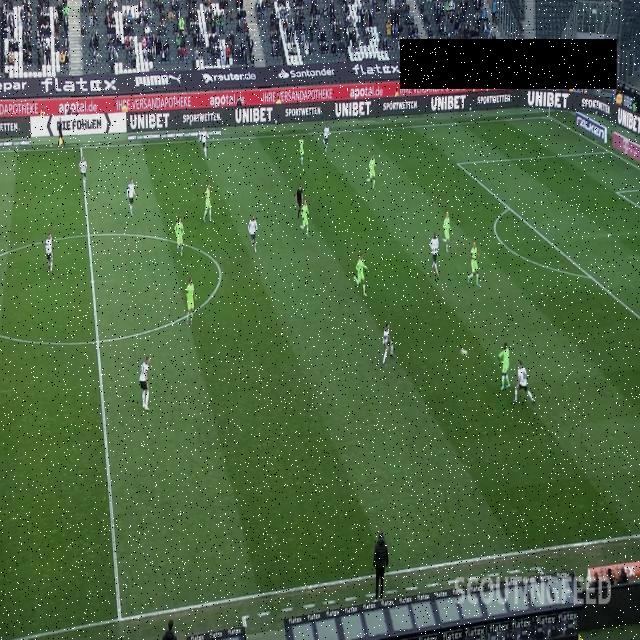Ball: (460, 348, 468, 356)
Corner: (544, 92, 556, 121)
Referee: (296, 184, 304, 218), (57, 119, 66, 149)
TEAM 1: (512, 360, 536, 404), (139, 355, 151, 411), (382, 322, 394, 366), (430, 230, 440, 276), (300, 198, 310, 237), (248, 214, 258, 253), (126, 178, 136, 216), (45, 232, 53, 274), (78, 154, 88, 184), (322, 124, 330, 152)
TEAM 2: (354, 252, 368, 298), (498, 342, 510, 390), (468, 240, 480, 288), (186, 278, 197, 328), (202, 183, 214, 223), (442, 210, 452, 253), (198, 124, 210, 158), (174, 216, 184, 256), (367, 154, 377, 190), (298, 134, 306, 166)
